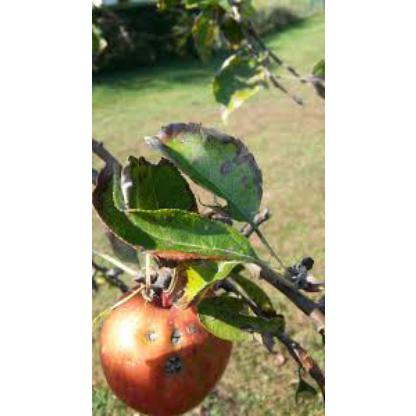apple: (96, 274, 233, 414)
